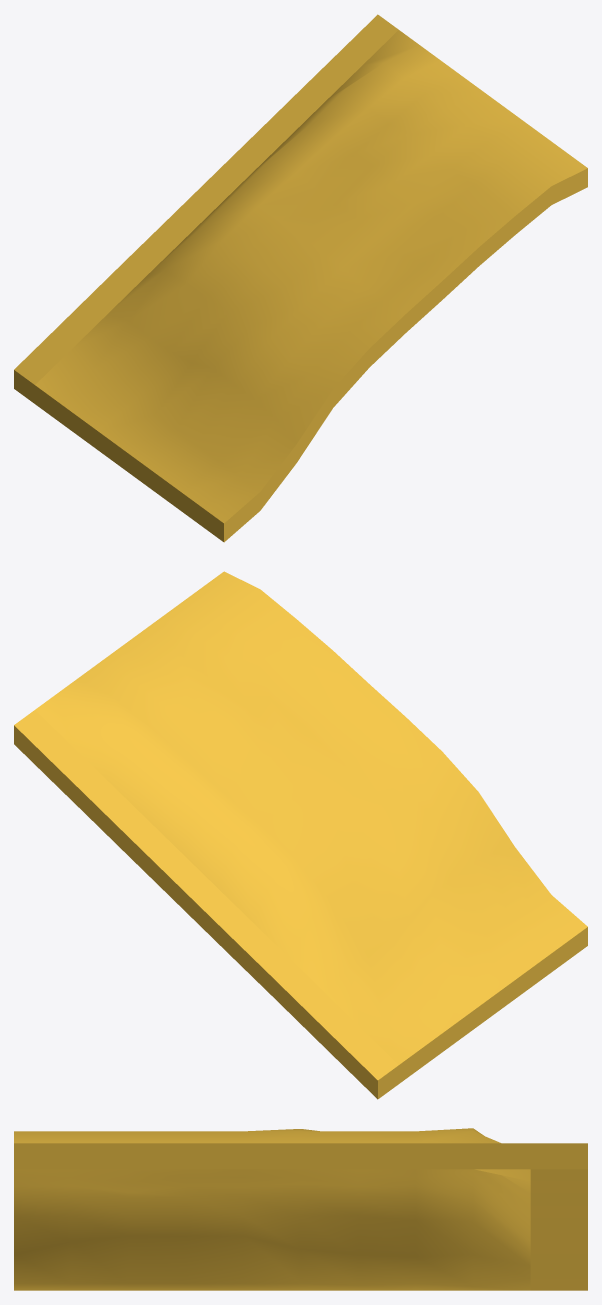
File: Steil - Mitte - Hügle x - b.fbx
The picture shows the model from 3 angles, top to bottom: view 1: azimuth 30°, elevation 25°; view 2: azimuth 150°, elevation 25°; view 3: azimuth 270°, elevation 25°; orthographic projection. The views are drawn at different scales.
Parts seen in each view (by area): view 1: Steil - Mitte - Hügle x - b; view 2: Steil - Mitte - Hügle x - b; view 3: Steil - Mitte - Hügle x - b.
Part boxes in pixels (x1=…): Steil - Mitte - Hügle x - b: x1=14, y1=14, x2=587, y2=542; Steil - Mitte - Hügle x - b: x1=14, y1=571, x2=587, y2=1099; Steil - Mitte - Hügle x - b: x1=14, y1=1128, x2=587, y2=1290.
Bounding box in the file's own units: 394 × 295 × 394.
